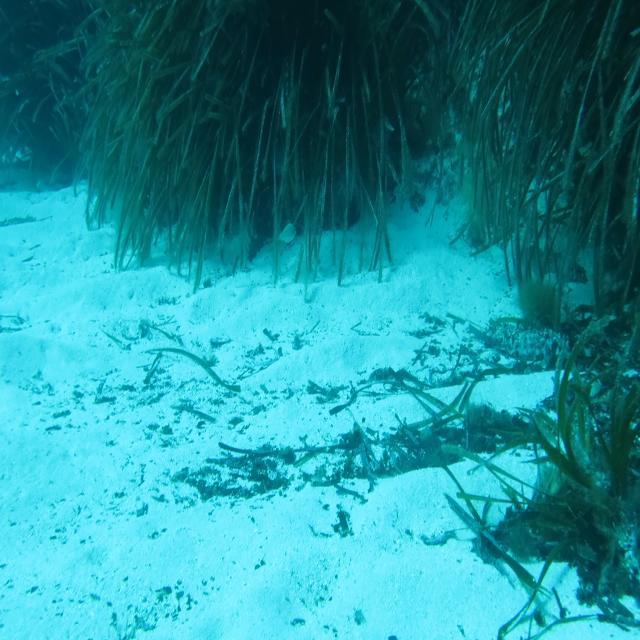SA: (276, 220, 298, 246)
vegetation: (122, 3, 484, 214), (485, 0, 639, 289), (468, 368, 640, 554), (184, 422, 461, 496), (0, 0, 120, 121), (467, 555, 640, 633), (474, 293, 640, 364)
